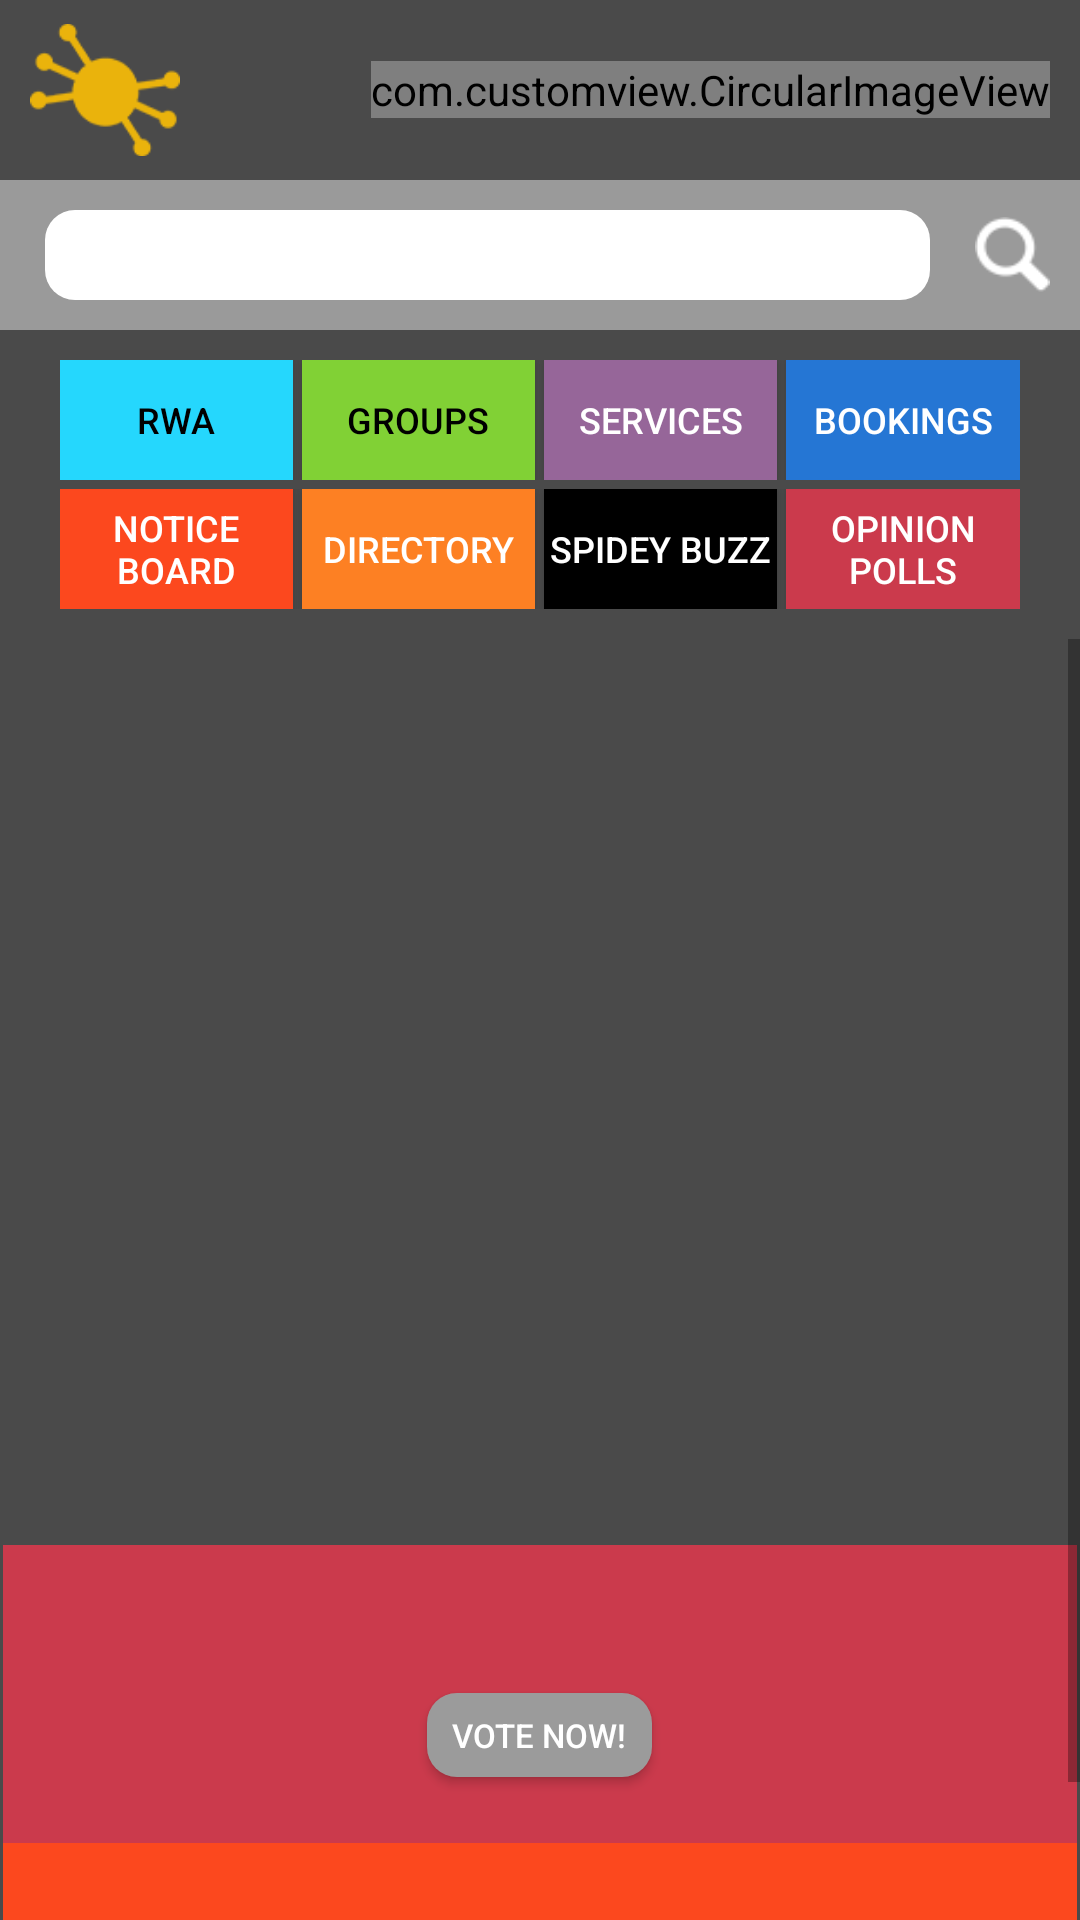

Screen size 1080w x 1920h. Icon name, then its center in pixels as point (x, y):
search: point (1012, 254)
